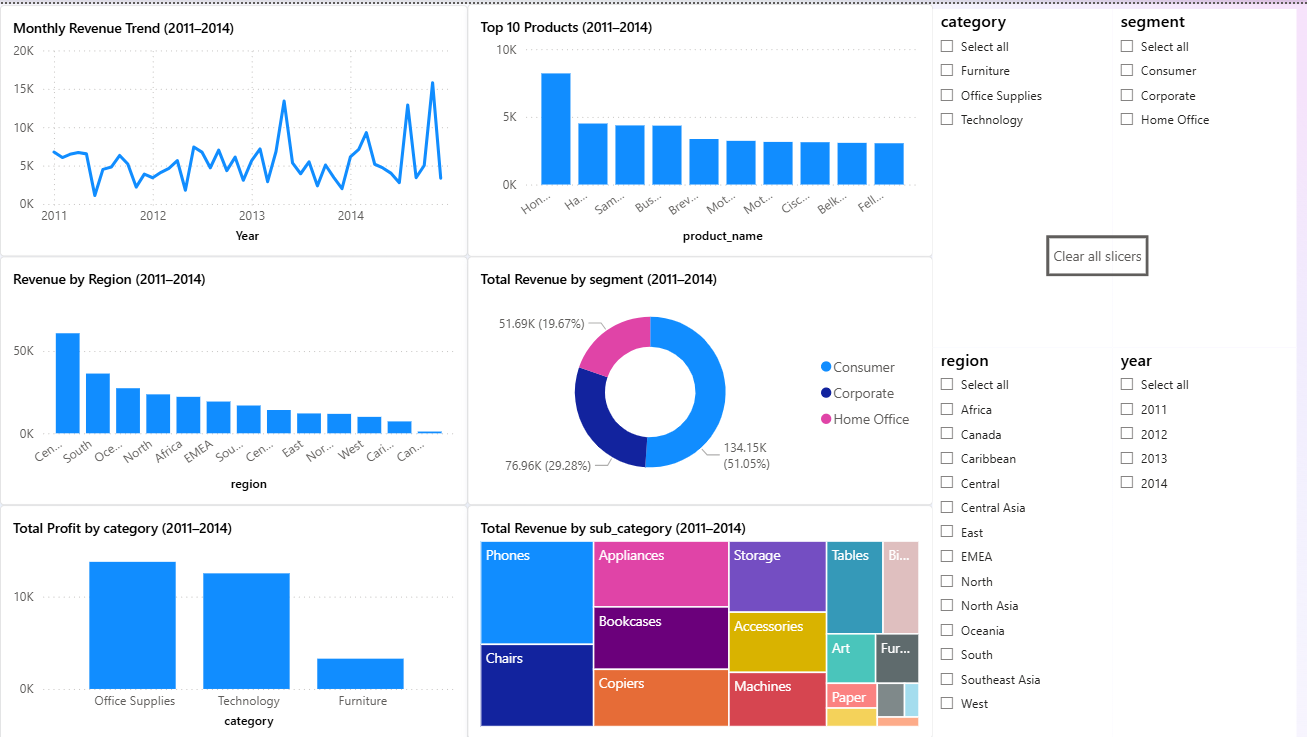

The page's visual inventory and layout, read from the dashboard file:
{"tool":"powerbi","page":{"name":"charts","canvas":[1280,720],"ordinal":1},"visuals":[{"type":"lineChart","title":"Monthly Revenue Trend (2011–2014)","fields":{"Y":["SuperStoreOrdersfi_cleaned.Total Revenue"],"Category":["SuperStoreOrdersfi_cleaned.order_date.Variation.Date Hierarchy.Year","SuperStoreOrdersfi_cleaned.order_date.Variation.Date Hierarchy.Month"]},"box":[0,1.2,457.3,245.8],"z":0},{"type":"clusteredColumnChart","title":"Revenue by Region (2011–2014)","fields":{"Category":["SuperStoreOrdersfi_cleaned.region"],"Y":["SuperStoreOrdersfi_cleaned.Total Revenue"]},"box":[0,247,457.3,243.3],"z":1000},{"type":"clusteredColumnChart","title":"Total Profit by category (2011–2014)","fields":{"Y":["SuperStoreOrdersfi_cleaned.Total Profit"],"Category":["SuperStoreOrdersfi_cleaned.category"]},"box":[0,490.4,457.3,231.1],"z":2000},{"type":"clusteredColumnChart","title":"Top 10 Products (2011–2014)","fields":{"Category":["SuperStoreOrdersfi_cleaned.product_name"],"Y":["SuperStoreOrdersfi_cleaned.Total Revenue"]},"box":[457.3,0,454.9,247],"z":3000},{"type":"donutChart","title":"Total Revenue by segment (2011–2014)","fields":{"Y":["SuperStoreOrdersfi_cleaned.Total Revenue"],"Category":["SuperStoreOrdersfi_cleaned.segment"]},"box":[457.3,247,454.9,243.3],"z":4000},{"type":"treemap","title":"Total Revenue by sub_category (2011–2014)","fields":{"Group":["SuperStoreOrdersfi_cleaned.sub_category"],"Values":["SuperStoreOrdersfi_cleaned.Total Revenue"]},"box":[457.3,490.4,454.9,229.9],"z":5000},{"type":"slicer","fields":{"Values":["SuperStoreOrdersfi_cleaned.year"]},"box":[1088.3,336.3,179.8,384],"z":6000},{"type":"slicer","fields":{"Values":["SuperStoreOrdersfi_cleaned.region"]},"box":[912.2,336.3,176.1,384],"z":7000},{"type":"slicer","fields":{"Values":["SuperStoreOrdersfi_cleaned.segment"]},"box":[1088.3,4.9,179.8,331.4],"z":8000},{"type":"slicer","fields":{"Values":["SuperStoreOrdersfi_cleaned.category"]},"box":[912.2,4.9,176.1,331.4],"z":9000},{"type":"actionButton","box":[1023.5,226.2,100.3,40.4],"z":10000}]}

Visuals, with their boxes in screenshot pixels (x1, y1, x2, y2), scaled from the page's 1280x720 canvas onto the 1307x737 screenshot:
"Monthly Revenue Trend (2011–2014)" lineChart: {"left": 0, "top": 1, "right": 467, "bottom": 253}
"Revenue by Region (2011–2014)" clusteredColumnChart: {"left": 0, "top": 253, "right": 467, "bottom": 502}
"Total Profit by category (2011–2014)" clusteredColumnChart: {"left": 0, "top": 502, "right": 467, "bottom": 736}
"Top 10 Products (2011–2014)" clusteredColumnChart: {"left": 467, "top": 0, "right": 931, "bottom": 253}
"Total Revenue by segment (2011–2014)" donutChart: {"left": 467, "top": 253, "right": 931, "bottom": 502}
"Total Revenue by sub_category (2011–2014)" treemap: {"left": 467, "top": 502, "right": 931, "bottom": 736}
slicer - SuperStoreOrdersfi_cleaned.year: {"left": 1111, "top": 344, "right": 1295, "bottom": 736}
slicer - SuperStoreOrdersfi_cleaned.region: {"left": 931, "top": 344, "right": 1111, "bottom": 736}
slicer - SuperStoreOrdersfi_cleaned.segment: {"left": 1111, "top": 5, "right": 1295, "bottom": 344}
slicer - SuperStoreOrdersfi_cleaned.category: {"left": 931, "top": 5, "right": 1111, "bottom": 344}
actionButton: {"left": 1045, "top": 232, "right": 1148, "bottom": 273}
